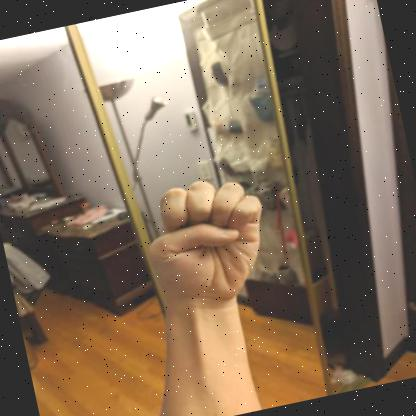E: (147, 180, 262, 318)
